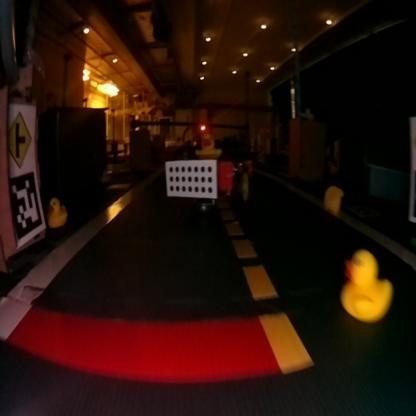duckie: (336, 236, 406, 332), (320, 174, 349, 223), (42, 195, 74, 234), (195, 128, 222, 158)
duckiebot: (161, 154, 257, 225)
